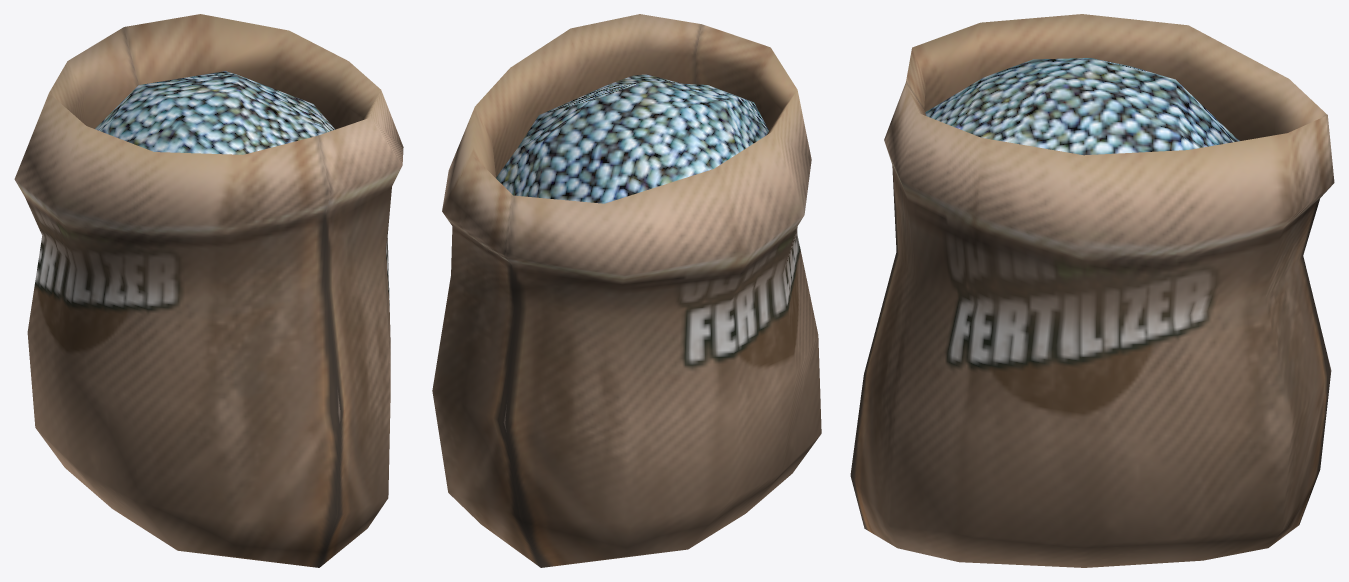
Rendered from fertilizerBag03.fbx.
3 renders of one model, left to right at view 1: azimuth 30°, elevation 25°; view 2: azimuth 150°, elevation 25°; view 3: azimuth 270°, elevation 25°, orthographic. The views are drawn at different scales.
Parts seen in each view (by area): view 1: fertilizerBag03; view 2: fertilizerBag03; view 3: fertilizerBag03.
Boxes of the visible parts, left/top/right/bottom form: fertilizerBag03: left=14, top=14, right=403, bottom=567; fertilizerBag03: left=432, top=14, right=821, bottom=567; fertilizerBag03: left=850, top=14, right=1334, bottom=567.
Size of the model in its own units: 30.85 by 38.16 by 36.68.
